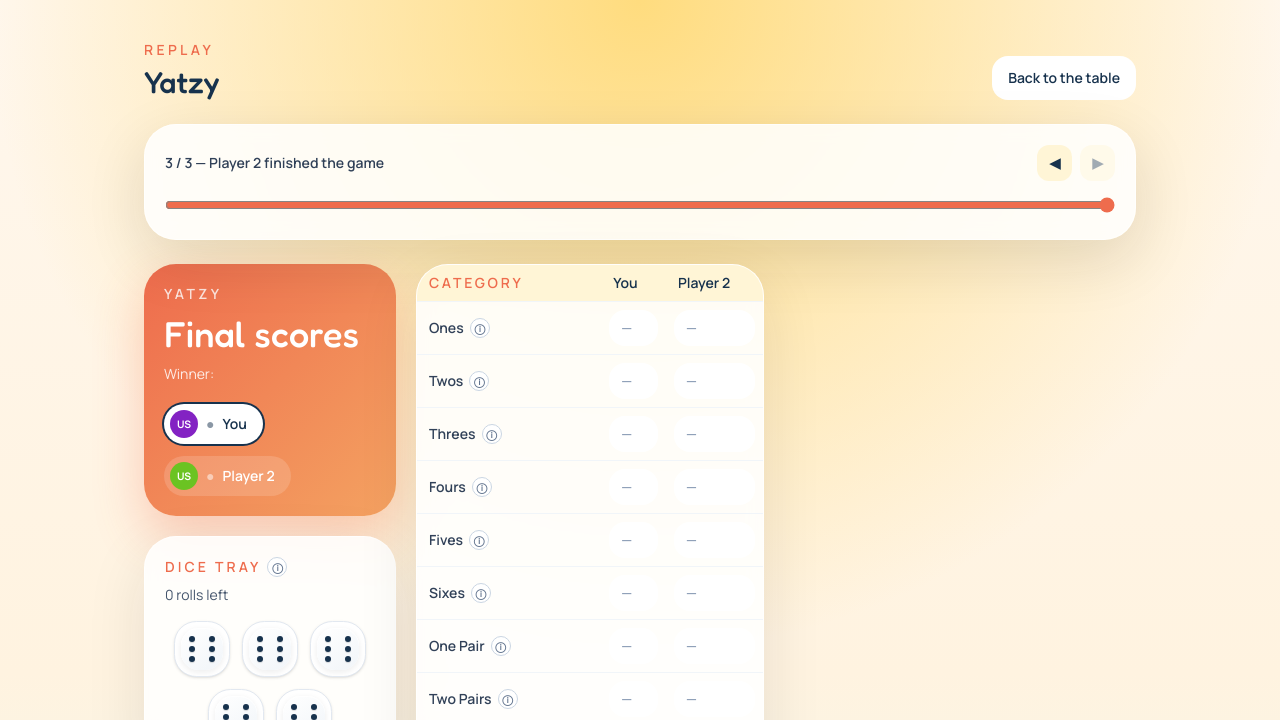
Test: ReplayPage › moves one step at a time with the buttons and stops at both ends
Expected: the button named "Next step" is disabled, [1080,145,1115,181]
Click the button named "Previous step": (1055, 163) [1037,145,1072,181]
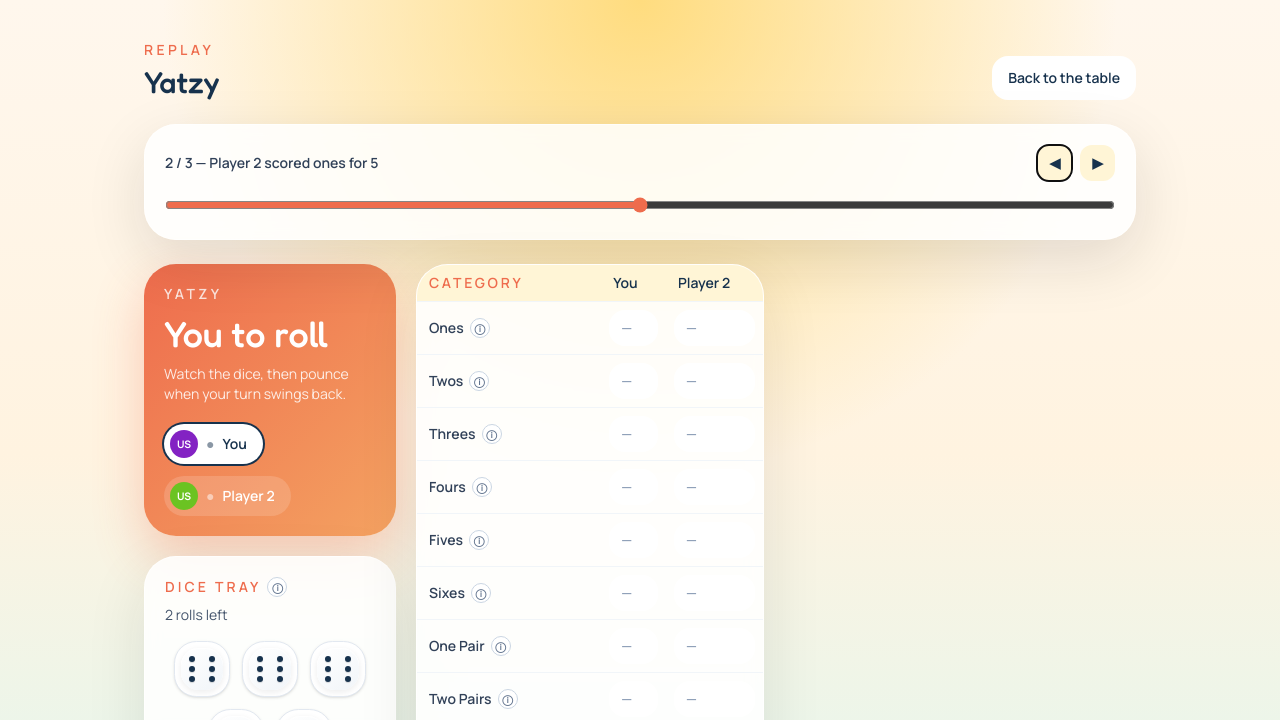
Expected: the text with test id "replay-step" reads "2 / 3 — Player 2 scored ones for 5", [165,153,378,173]
Click the button named "Previous step": (1055, 163) [1037,145,1072,181]
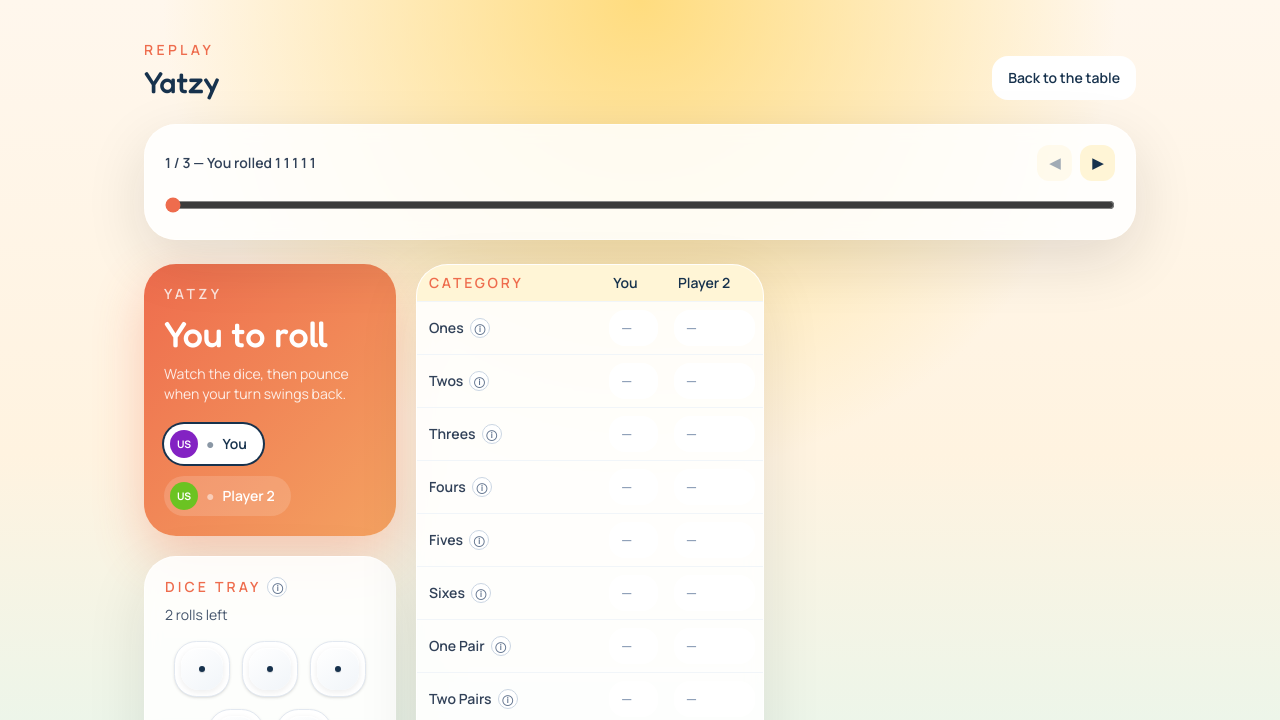
Expected: the text with test id "replay-step" reads "1 / 3 — You rolled 1 1 1 1 1", [165,153,316,173]
Expected: the button named "Previous step" is disabled, [1037,145,1072,181]
Click the button named "Next step": (1098, 163) [1080,145,1115,181]
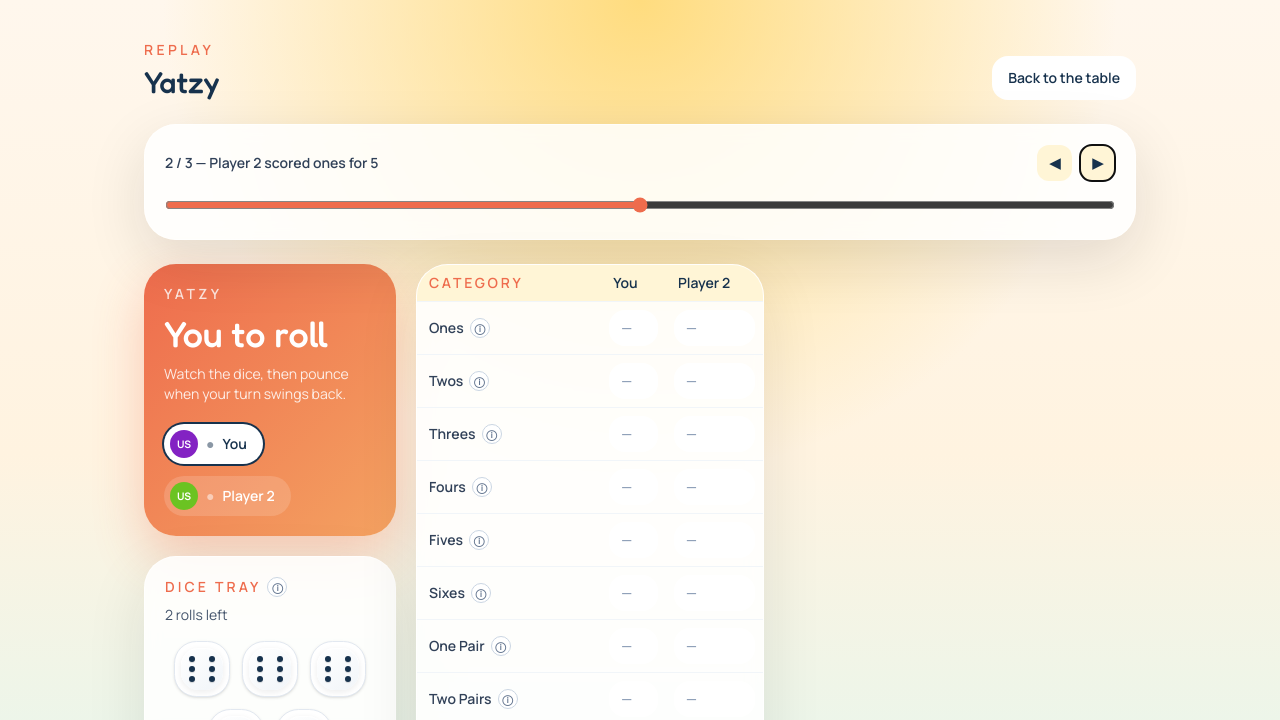
Expected: the text with test id "replay-step" reads "2 / 3 — Player 2 scored ones for 5", [165,153,378,173]
